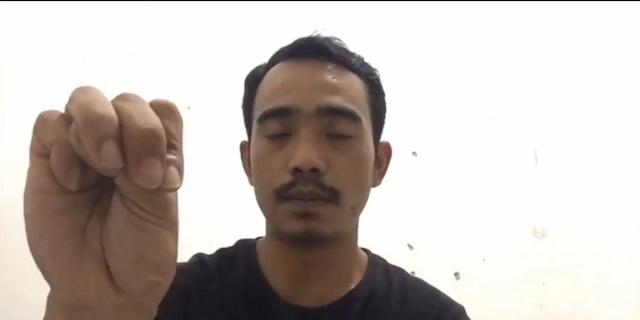M: (20, 83, 184, 295)
